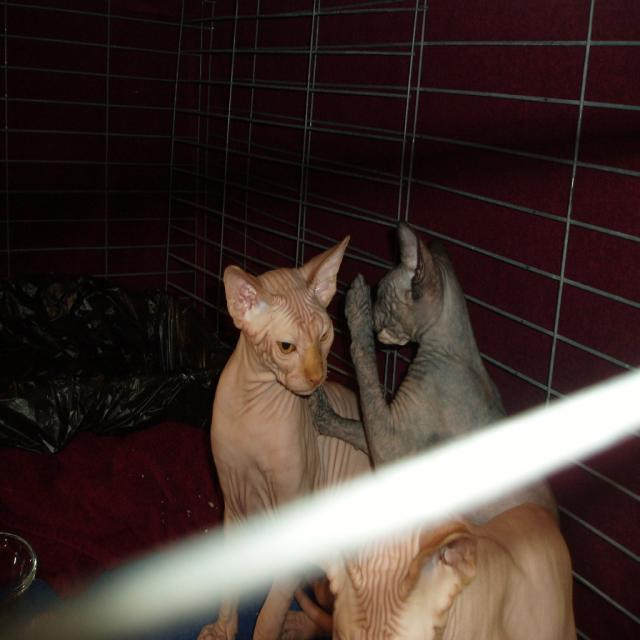Cat: (311, 213, 558, 524)
